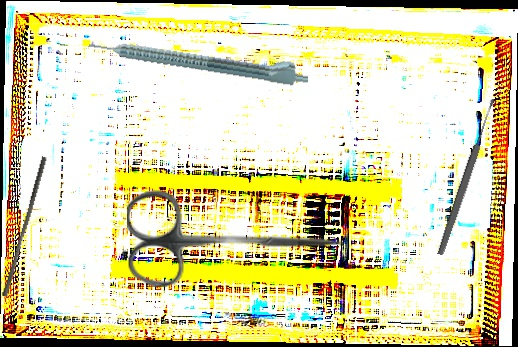Handpiece: (87, 27, 311, 89)
Iris Scissors: (127, 190, 342, 287)
Pusher: (1, 154, 48, 299)
Surgical Spoon: (435, 97, 499, 257)
